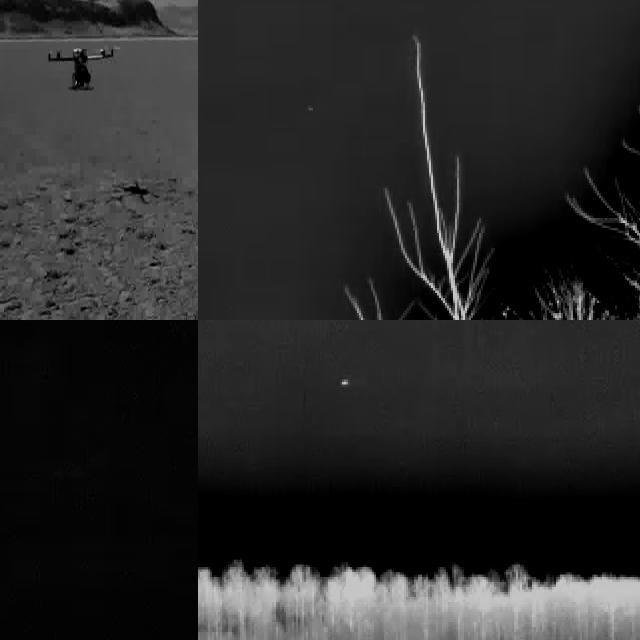0: (295, 94, 321, 130)
1: (322, 366, 358, 406)
drone: (46, 48, 118, 94)
